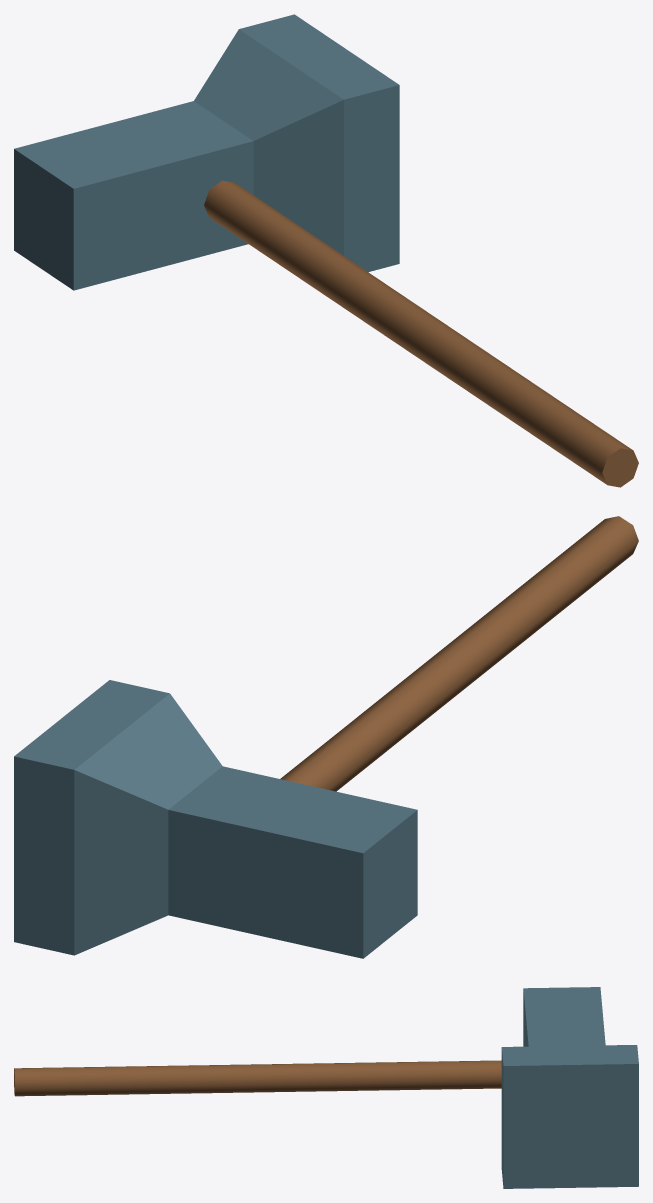
File: mace.glb
3 renders of one model, top to bottom at view 1: azimuth 30°, elevation 25°; view 2: azimuth 150°, elevation 25°; view 3: azimuth 270°, elevation 25°, orthographic. The views are drawn at different scales.
Visible parts, largest first — view 1: mace; view 2: mace; view 3: mace.
Boxes of the visible parts, x1,y1,x2,y2 form: mace: (14,14,638,487); mace: (14,516,638,958); mace: (14,987,638,1188).
Size of the model in its own units: 0.2999 by 0.1627 by 0.75.
